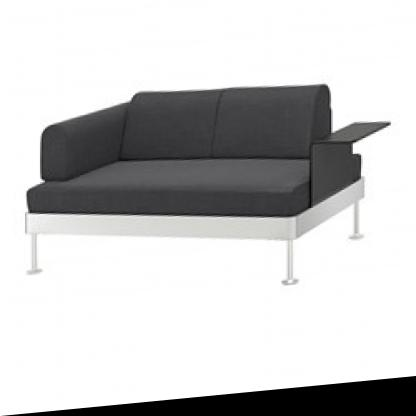Sofa: (20, 40, 392, 321)
